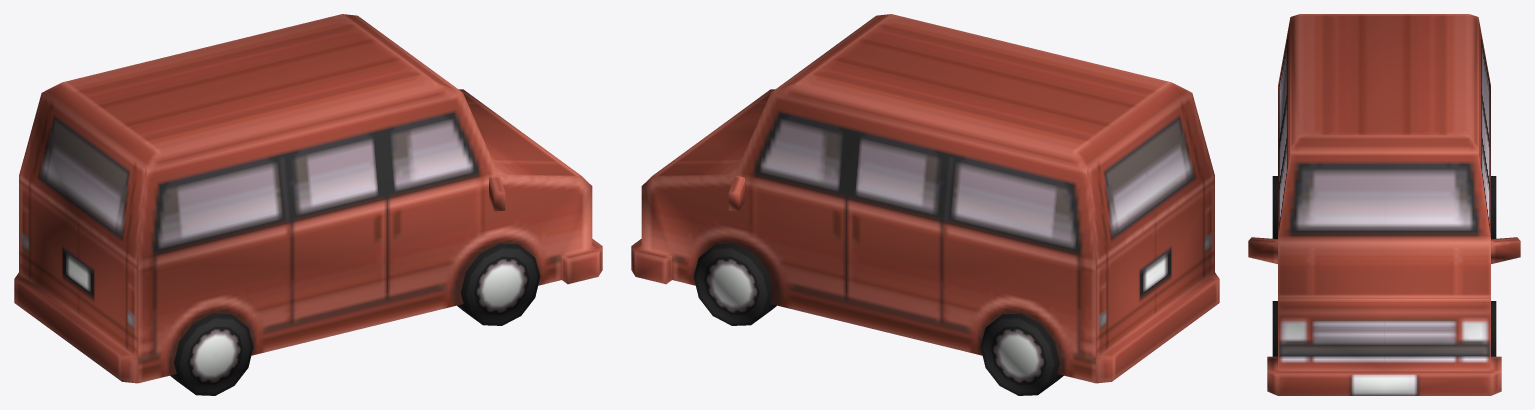
File: Carro.fbx
3 views of the same model, side by side, from view 1: azimuth 30°, elevation 25°; view 2: azimuth 150°, elevation 25°; view 3: azimuth 270°, elevation 25° (orthographic). The views are drawn at different scales.
Parts seen in each view (by area): view 1: ID02769_00000000out; view 2: ID02769_00000000out; view 3: ID02769_00000000out.
Boxes of the visible parts, left/top/right/bottom form: ID02769_00000000out: left=14, top=14, right=602, bottom=395; ID02769_00000000out: left=631, top=14, right=1219, bottom=395; ID02769_00000000out: left=1248, top=14, right=1520, bottom=395.
Size of the model in its own units: 558 by 274 by 310.
1 material, 1 textured.
